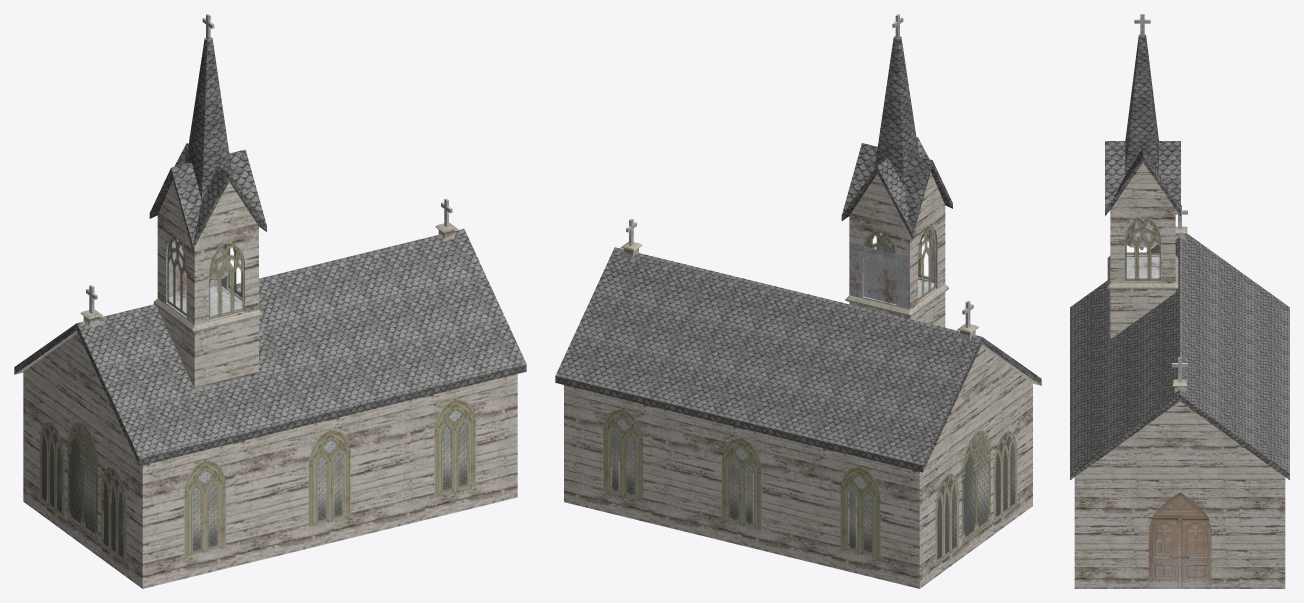
Rendered from psx_church.glb.
3 views of the same model, side by side, from view 1: azimuth 30°, elevation 25°; view 2: azimuth 150°, elevation 25°; view 3: azimuth 270°, elevation 25° (orthographic). The views are drawn at different scales.
Visible parts, largest first — view 1: PSX Church; view 2: PSX Church; view 3: PSX Church.
Part boxes in pixels (x1,y1,x2,y2): PSX Church: (14,14,526,588); PSX Church: (555,14,1041,588); PSX Church: (1070,14,1289,588).
Bounding box in the file's own units: 6.95 × 8.92 × 3.88.
1 material, 1 textured.
